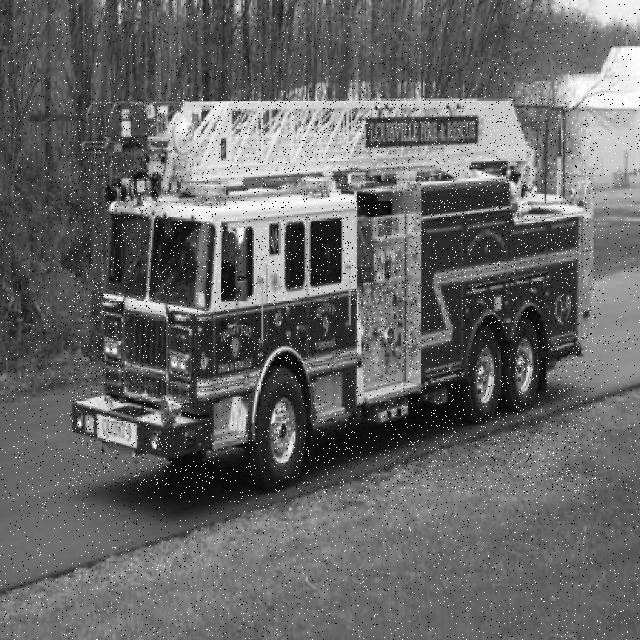Fire Truck: (69, 99, 596, 493)
